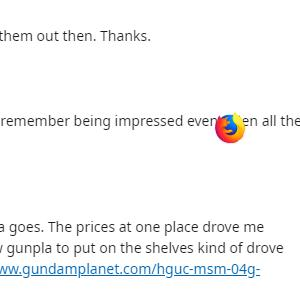firefox: (215, 112, 245, 143)
